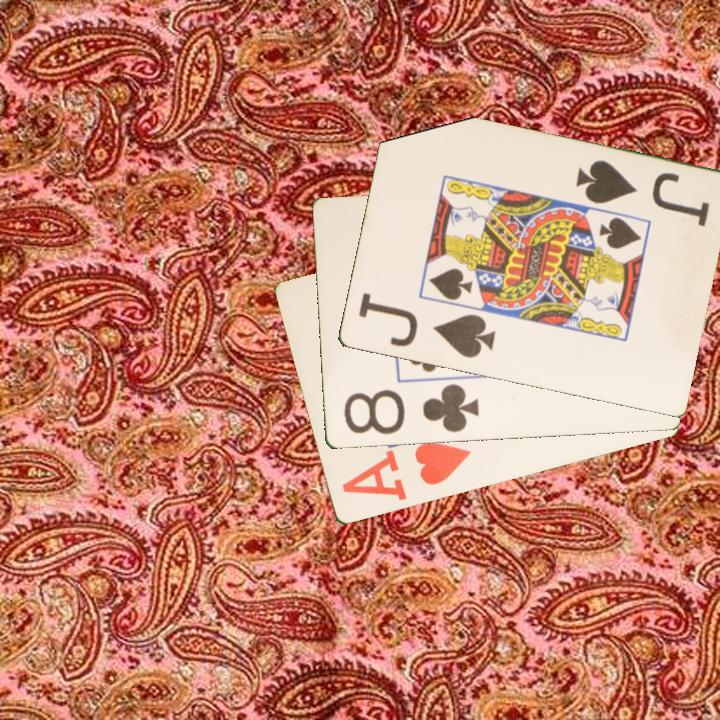8c: (340, 381, 482, 438)
Ah: (338, 438, 474, 504)
Js: (571, 156, 712, 230), (354, 289, 498, 361)
